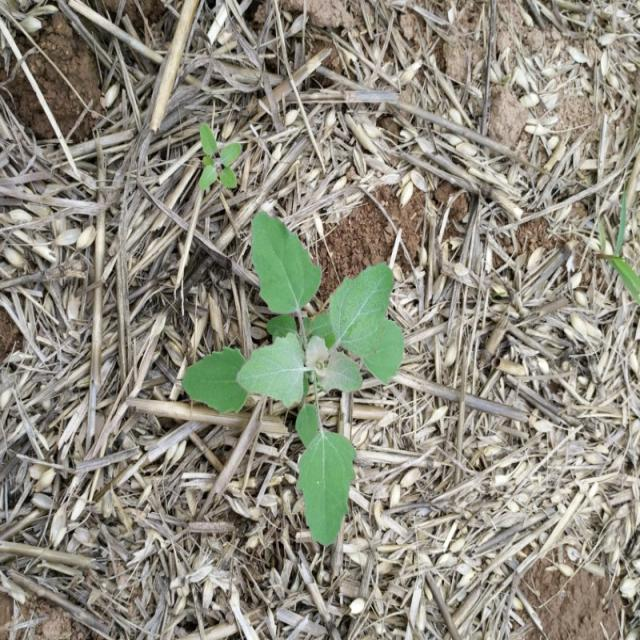ca: (180, 215, 408, 545)
